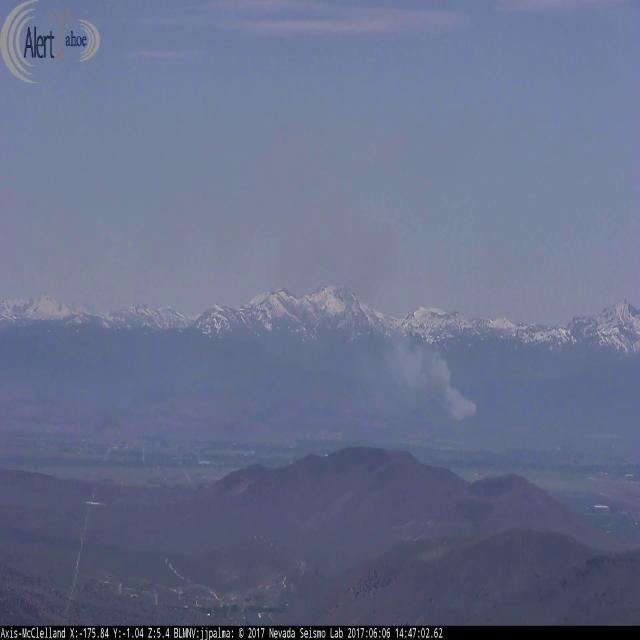smoke: (222, 128, 478, 421)
